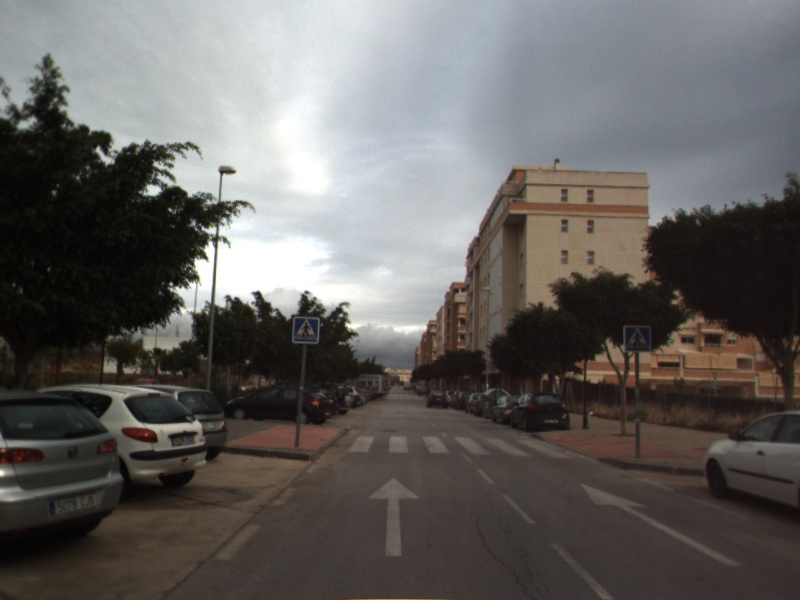STRAIGHT: (579, 482, 742, 568), (366, 475, 422, 558)
